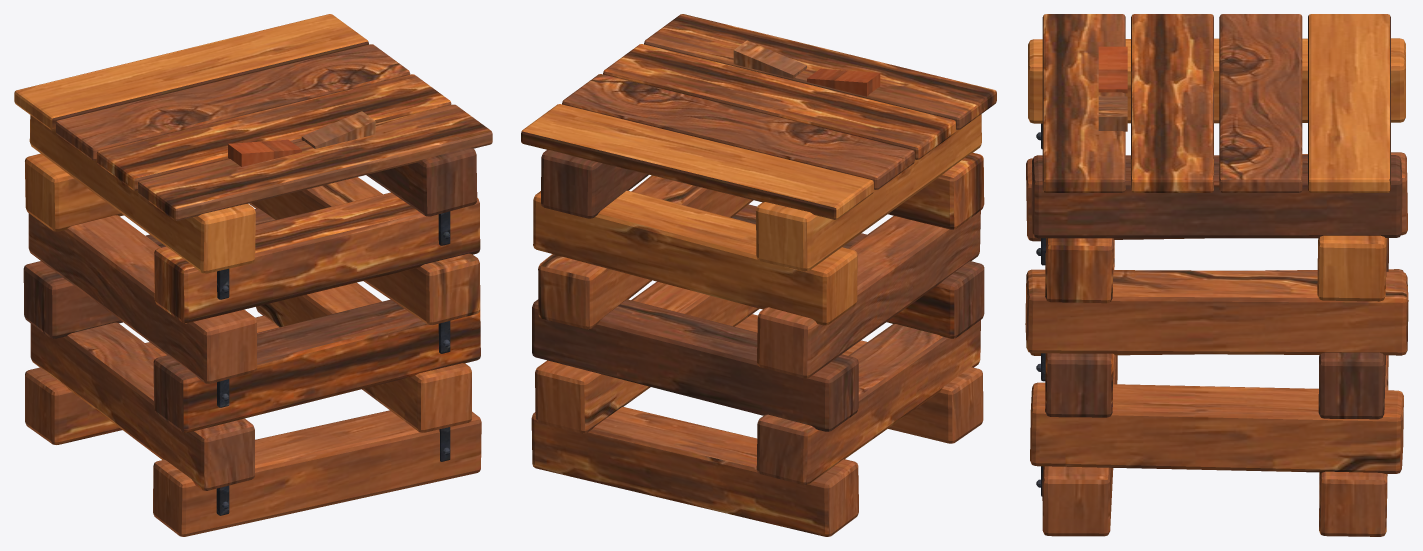
Rendered from mp_prop_crib.glb.
3 renders of one model, left to right at view 1: azimuth 30°, elevation 25°; view 2: azimuth 150°, elevation 25°; view 3: azimuth 270°, elevation 25°, orthographic. The views are drawn at different scales.
Visible parts, largest first — view 1: model; view 2: model; view 3: model.
Boxes of the visible parts, x1,y1,x2,y2 form: model: (14, 14, 492, 536); model: (521, 14, 996, 536); model: (1025, 14, 1408, 536).
Bounding box in the file's own units: 0.95 × 1.01 × 0.9232.
Materials: 10 (10 with a texture image).
